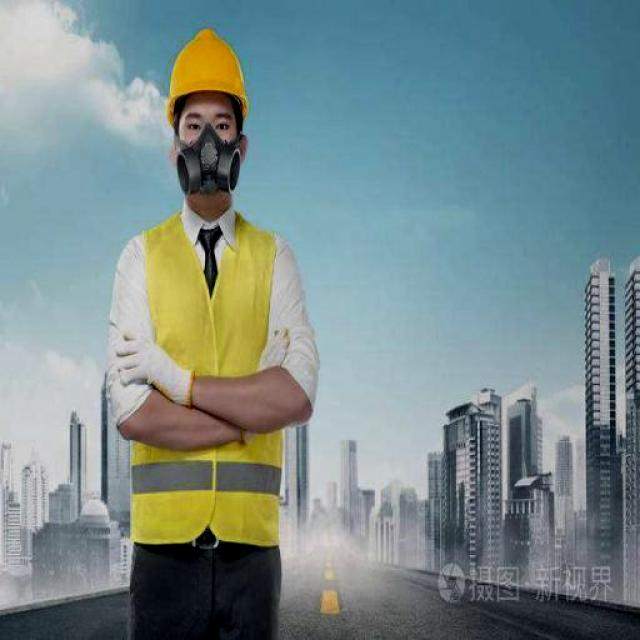face_mask: (172, 110, 247, 192)
hand_glove: (113, 327, 178, 392)
head_helmet: (162, 24, 248, 107)
person: (95, 21, 324, 640)
vest: (131, 213, 287, 552)
